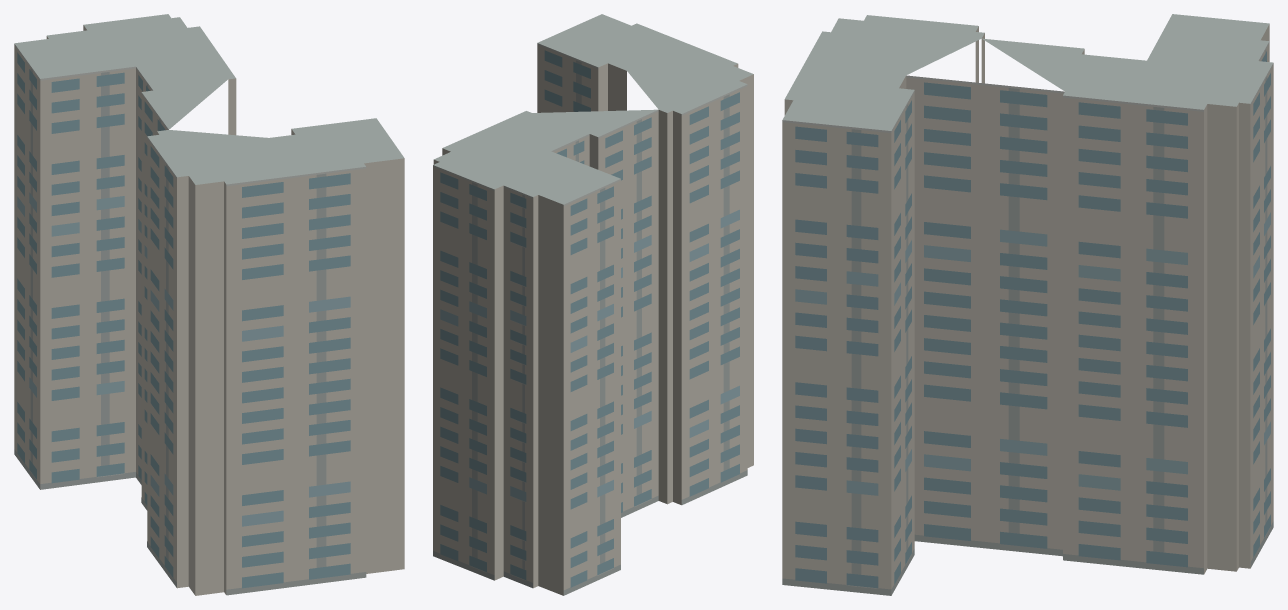
File: residential-897b2c03-b138-4e43-a355-421aae826221.glb
3 renders of one model, left to right at view 1: azimuth 30°, elevation 25°; view 2: azimuth 150°, elevation 25°; view 3: azimuth 270°, elevation 25°, orthographic. The views are drawn at different scales.
Parts seen in each view (by area): view 1: residential-897b2c03-b138-4e43-a355-421aae826221.tmp; view 2: residential-897b2c03-b138-4e43-a355-421aae826221.tmp; view 3: residential-897b2c03-b138-4e43-a355-421aae826221.tmp.
Part boxes in pixels (left/top/right/bottom): residential-897b2c03-b138-4e43-a355-421aae826221.tmp: left=14, top=14, right=404, bottom=595; residential-897b2c03-b138-4e43-a355-421aae826221.tmp: left=433, top=14, right=753, bottom=595; residential-897b2c03-b138-4e43-a355-421aae826221.tmp: left=782, top=14, right=1273, bottom=595.
Bounding box in the file's own units: 29.72 × 55 × 52.68.
